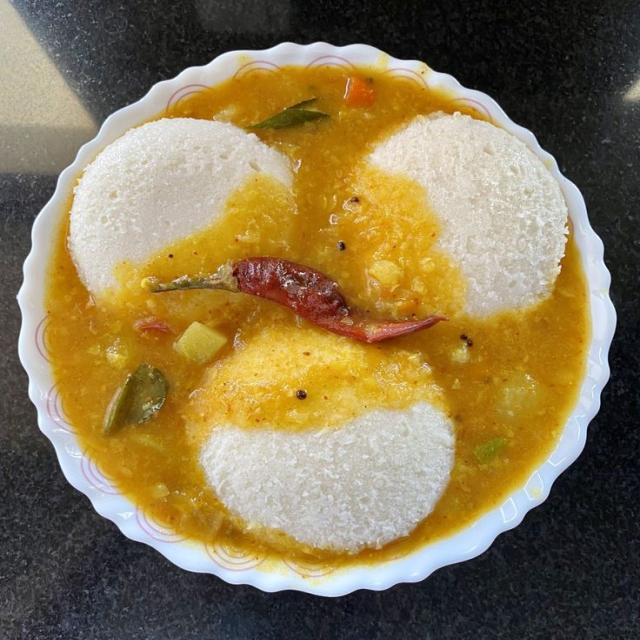idly: (184, 335, 455, 536), (374, 101, 574, 331), (72, 122, 300, 313)
